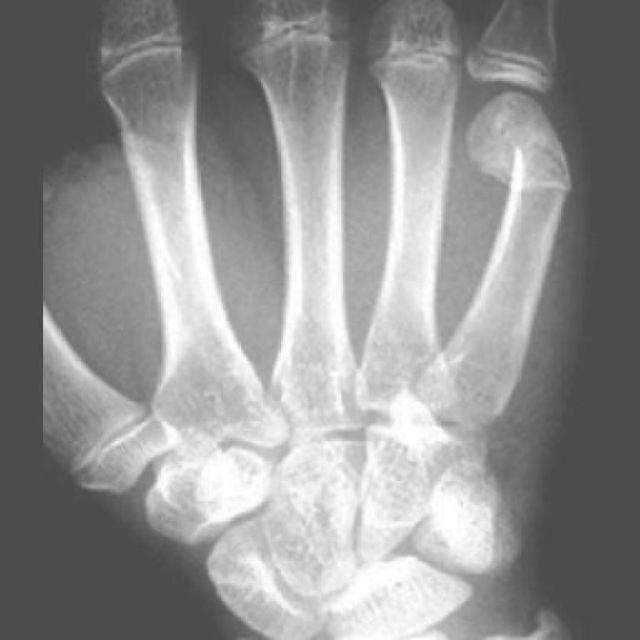Fracture: (486, 109, 577, 205)
